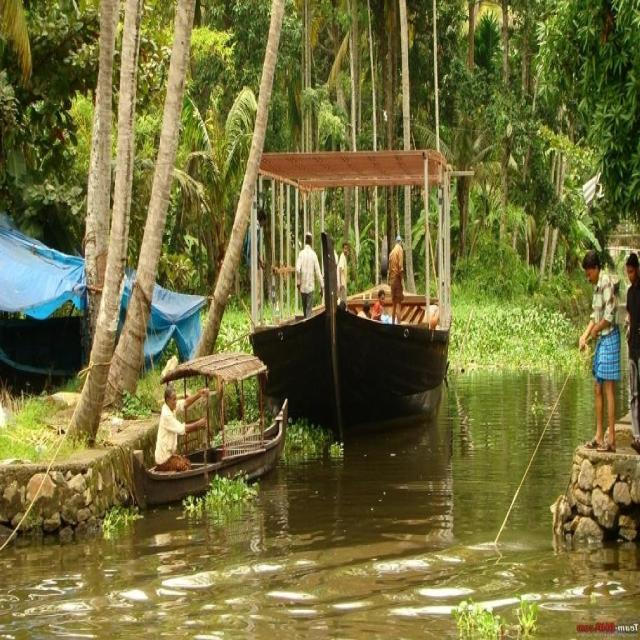Hyacinth: (256, 404, 323, 462), (457, 597, 543, 640), (202, 473, 255, 516), (99, 496, 143, 540)
boat: (243, 262, 455, 401), (124, 394, 310, 491)
